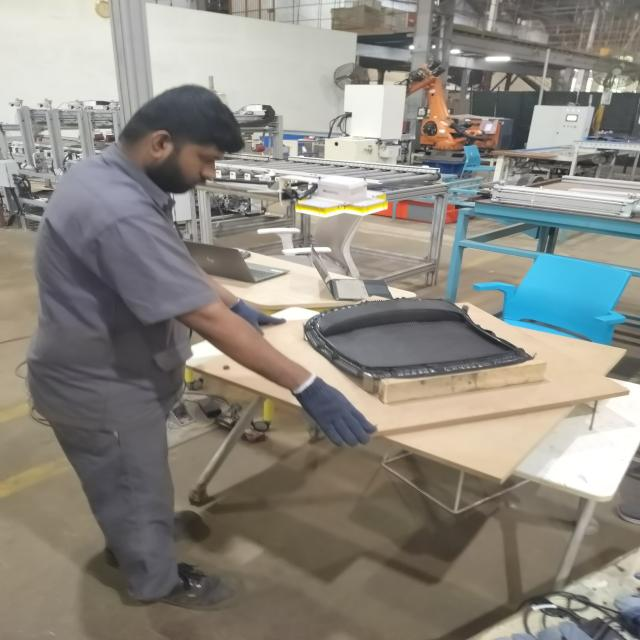Gloves-Detection: (290, 371, 381, 448), (233, 299, 286, 330)
